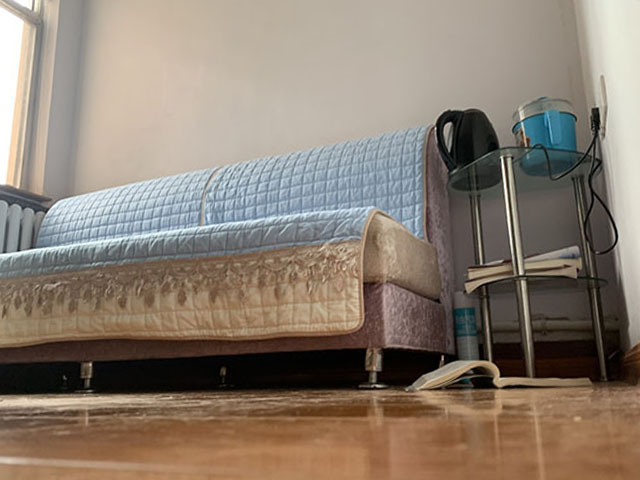book: (404, 358, 592, 392)
sofa: (1, 123, 454, 392)
table: (450, 144, 608, 360)
